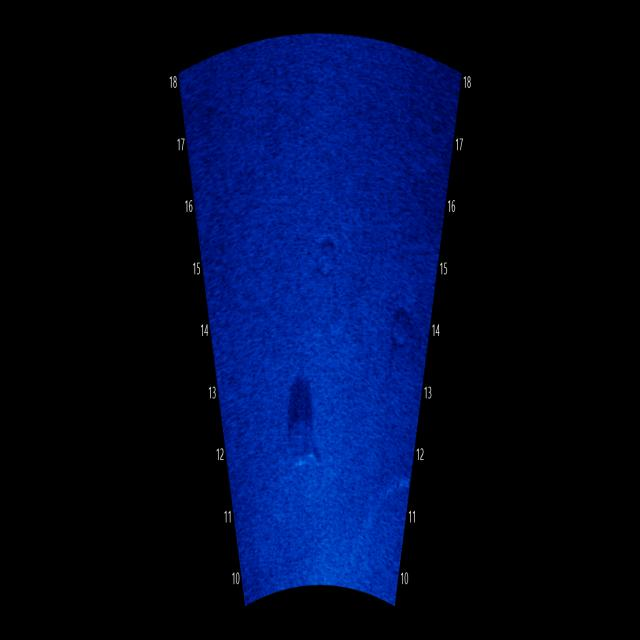circle: (282, 406, 322, 483), (314, 224, 341, 290)
